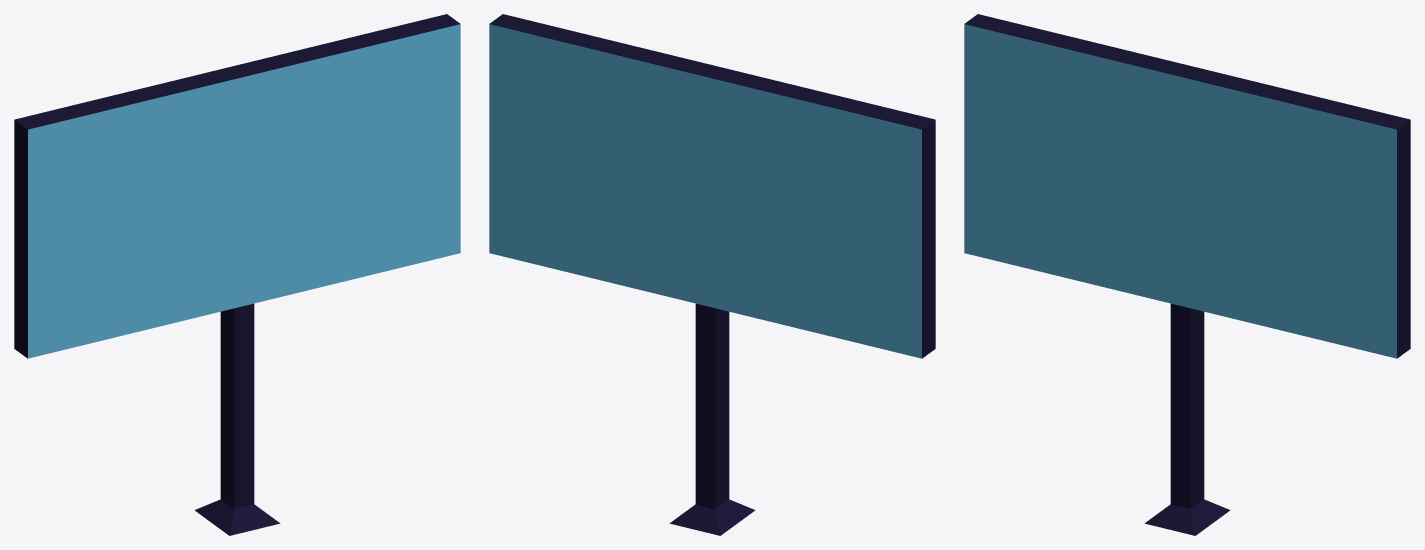
The model's file is BuildBoard1.fbx.
3 renders of one model, left to right at view 1: azimuth 30°, elevation 25°; view 2: azimuth 150°, elevation 25°; view 3: azimuth 330°, elevation 25°, orthographic.
Parts seen in each view (by area): view 1: BuildboardGround; view 2: BuildboardGround; view 3: BuildboardGround.
Boxes of the visible parts, <box> form: BuildboardGround: <box>14,14,460,535</box>; BuildboardGround: <box>489,14,935,535</box>; BuildboardGround: <box>964,14,1410,535</box>.
Bounding box in the file's own units: 159 × 156 × 22.36.
